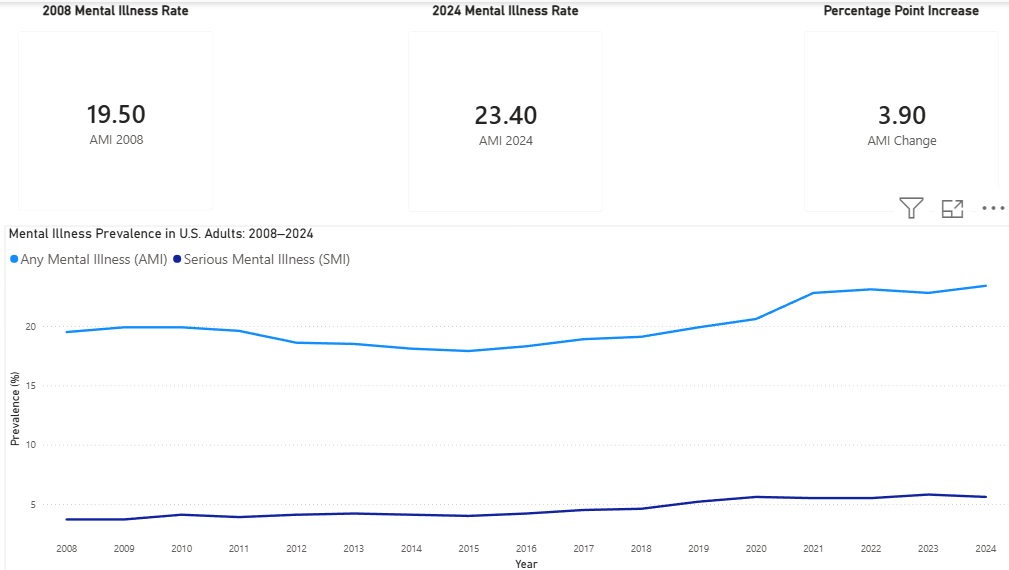

The dashboard page shown, as its layout file describes it:
{"tool":"powerbi","page":{"name":"Overview","canvas":[1280,720],"ordinal":0},"visuals":[{"type":"cardVisual","title":"2008 Mental Illness Rate","fields":{"Data":["national_trend.AMI 2008"]},"box":[10,0,280,280],"z":0},{"type":"cardVisual","title":"2024 Mental Illness Rate","fields":{"Data":["national_trend.AMI 2024"]},"box":[500.8,0,279.7,281.6],"z":1000},{"type":"cardVisual","title":"Percentage Point Increase","fields":{"Data":["national_trend.AMI Change"]},"box":[999.7,0,279.7,281.6],"z":2000},{"type":"lineChart","title":"Mental Illness Prevalence in U.S. Adults: 2008–2024","fields":{"Category":["national_trend.year"],"Y":["Sum(national_trend.ami_pct)","Sum(national_trend.smi_pct)"]},"box":[9.4,281.6,1269.9,438.4],"z":3000}]}

Visuals, with their boxes in screenshot pixels (x1, y1, x2, y2), scaled from the page's 1280x720 canvas onto the 1009x570 screenshot:
"2008 Mental Illness Rate" cardVisual: [x1=8, y1=0, x2=229, y2=222]
"2024 Mental Illness Rate" cardVisual: [x1=395, y1=0, x2=615, y2=223]
"Percentage Point Increase" cardVisual: [x1=788, y1=0, x2=1008, y2=223]
"Mental Illness Prevalence in U.S. Adults: 2008–2024" lineChart: [x1=7, y1=223, x2=1008, y2=569]
